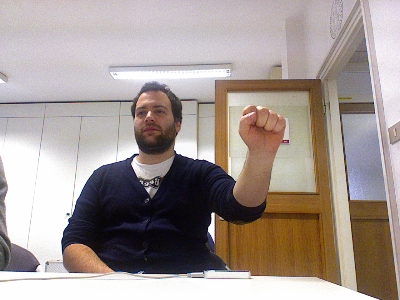石头: (236, 102, 287, 152)
